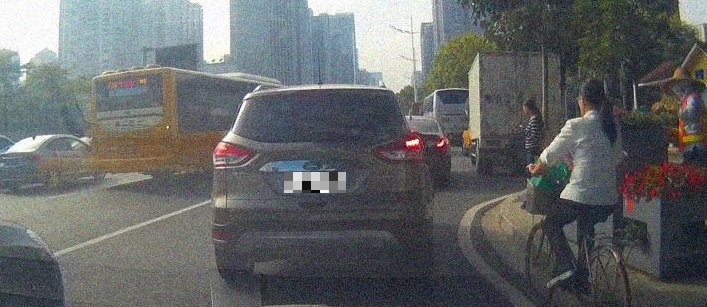L_light: (212, 141, 258, 166)
R_light: (374, 134, 426, 164)
T_light: (304, 93, 330, 98)
day-right: (210, 84, 432, 277)
plate_1: (284, 172, 346, 193)
